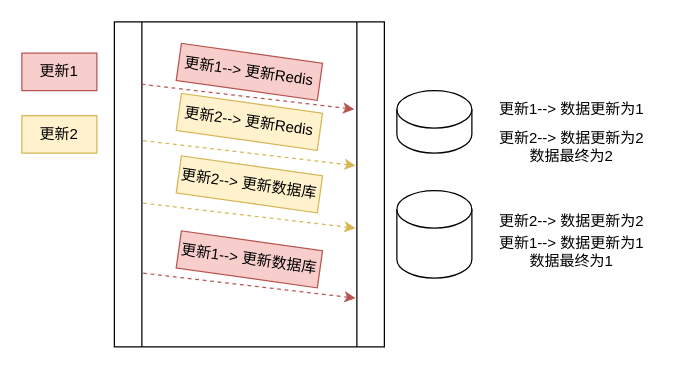
Some shapes in this 694 by 369 pixel diagram are drawn without their labels. The centre of each missing label's shape, as x and y in pixels:
"Redis" belongs at pixel 434 121.
"数据库" belongs at pixel 434 233.
